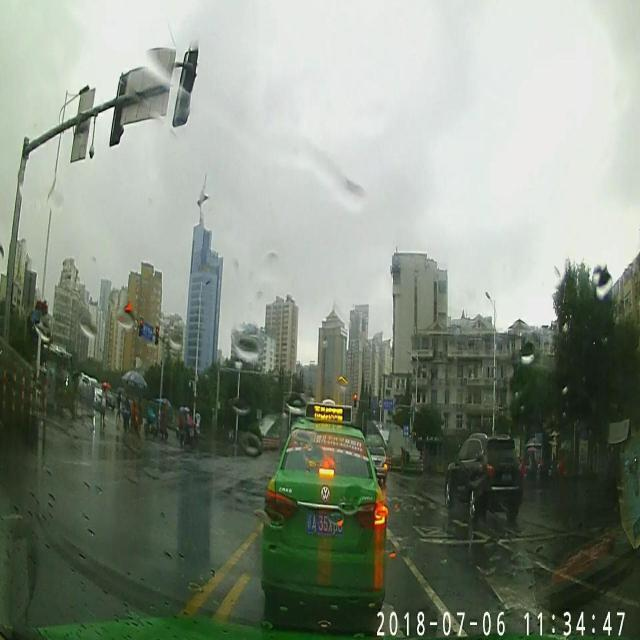car: (259, 400, 386, 616), (444, 428, 522, 522), (364, 442, 387, 478)
